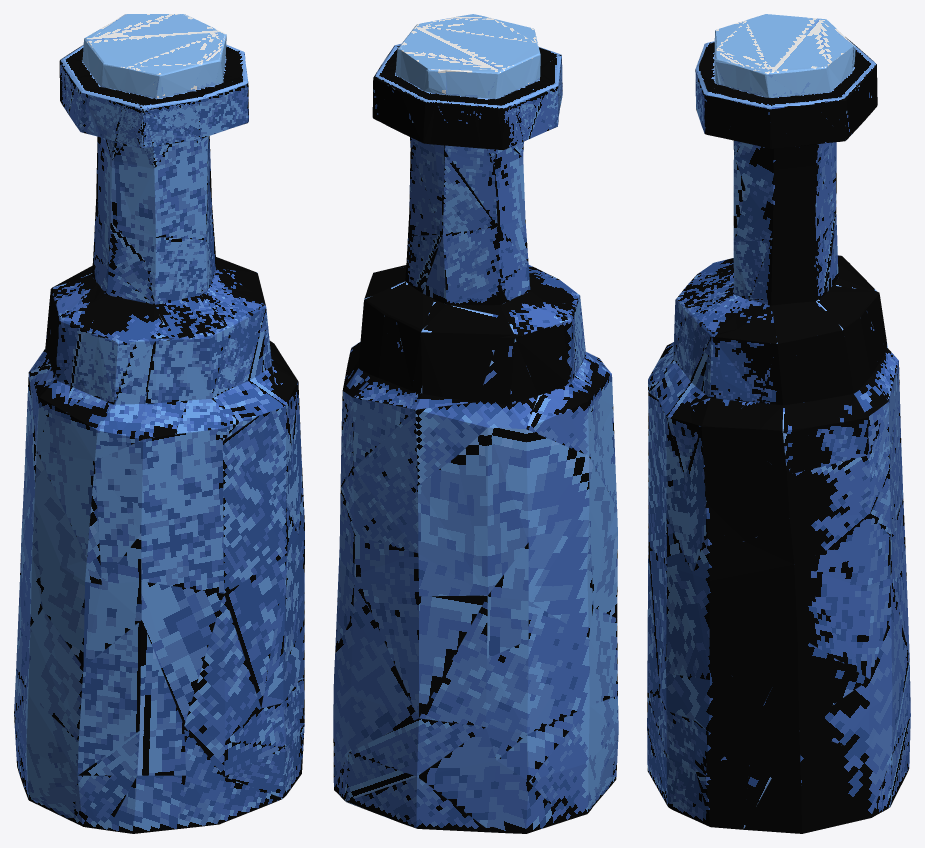
3 renders of one model, left to right at view 1: azimuth 30°, elevation 25°; view 2: azimuth 150°, elevation 25°; view 3: azimuth 270°, elevation 25°, orthographic.
Visible parts, largest first — view 1: OBJ0bd; view 2: OBJ0bd; view 3: OBJ0bd.
Part boxes in pixels (box(x1,y1,x2,y2)): OBJ0bd: box(14, 14, 304, 833); OBJ0bd: box(333, 14, 618, 833); OBJ0bd: box(647, 14, 910, 833).
Bounding box in the file's own units: 0.126 × 0.3556 × 0.1161.
Materials: 1 (1 with a texture image).
